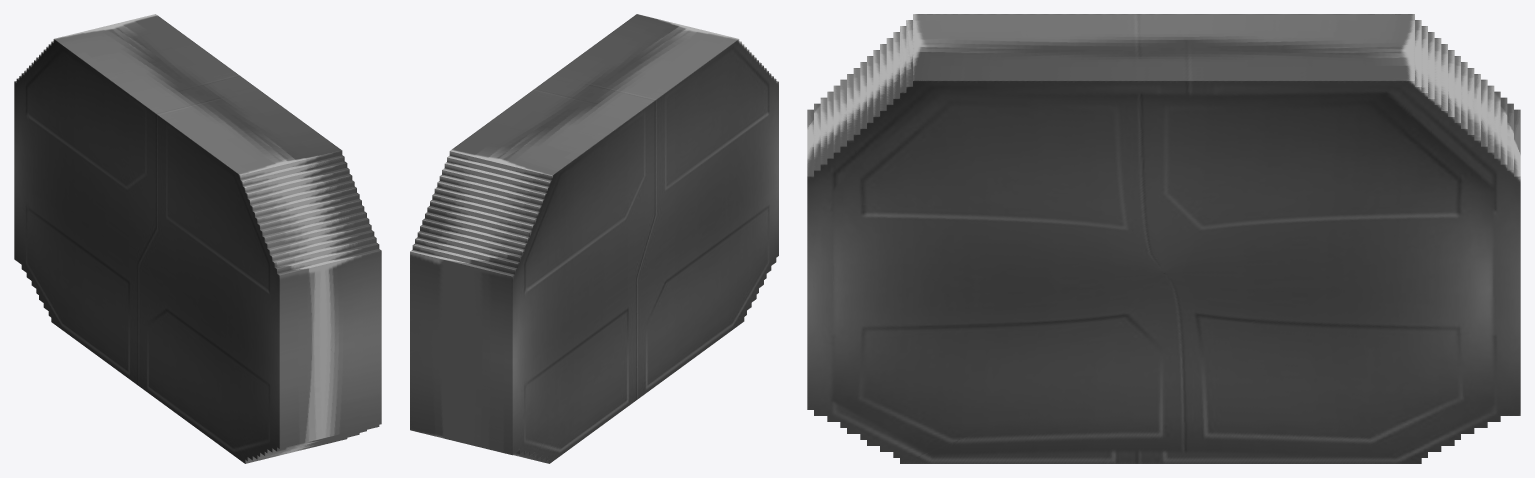
The model's file is door.glb.
The picture shows the model from 3 angles, left to right: view 1: azimuth 30°, elevation 25°; view 2: azimuth 150°, elevation 25°; view 3: azimuth 270°, elevation 25°; orthographic projection. The views are drawn at different scales.
Parts seen in each view (by area): view 1: node_id3; view 2: node_id3; view 3: node_id3.
Boxes of the visible parts, <box> form: node_id3: <box>14,14,381,463</box>; node_id3: <box>410,14,778,463</box>; node_id3: <box>807,14,1520,463</box>.
Bounding box in the file's own units: 0.192 × 0.512 × 0.864.
1 material, 1 textured.
